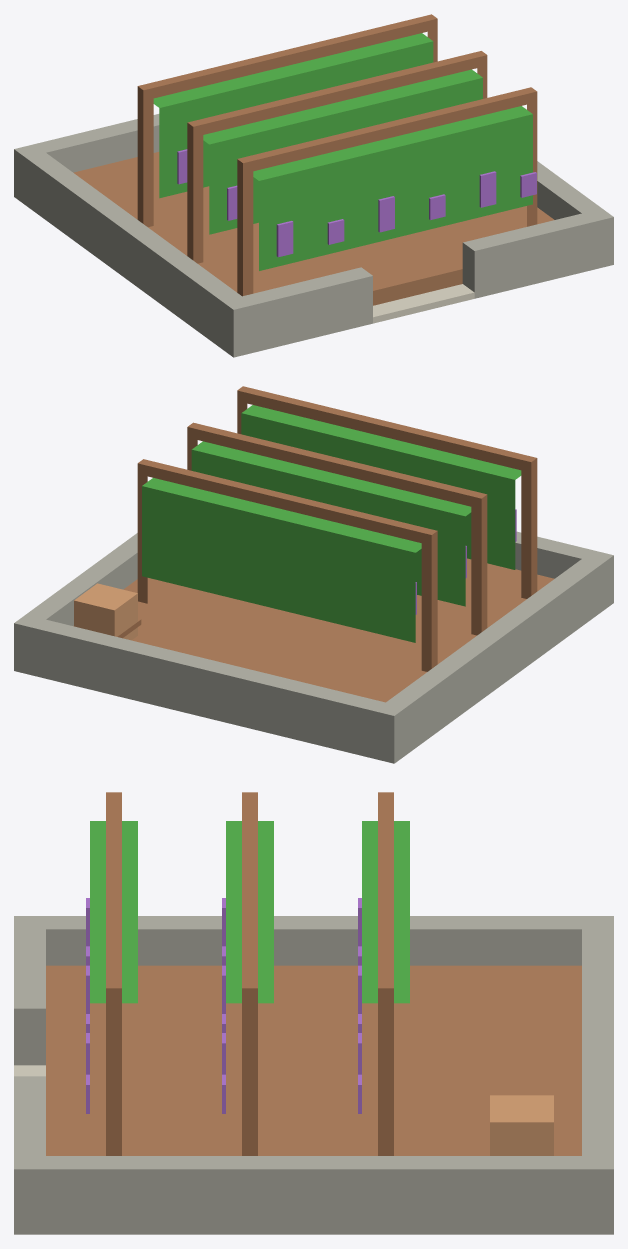
Rendered from field_t3_v4.glb.
3 renders of one model, top to bottom at view 1: azimuth 30°, elevation 25°; view 2: azimuth 150°, elevation 25°; view 3: azimuth 270°, elevation 25°, orthographic. The views are drawn at different scales.
Visible parts, largest first — view 1: field_t3_v4; view 2: field_t3_v4; view 3: field_t3_v4.
Part boxes in pixels (box(x1,y1,x2,y2)): field_t3_v4: box(14, 14, 613, 357); field_t3_v4: box(14, 386, 613, 763); field_t3_v4: box(14, 792, 613, 1234).
Bounding box in the file's own units: 0.75 × 0.3 × 0.75.
1 material, 1 textured.
